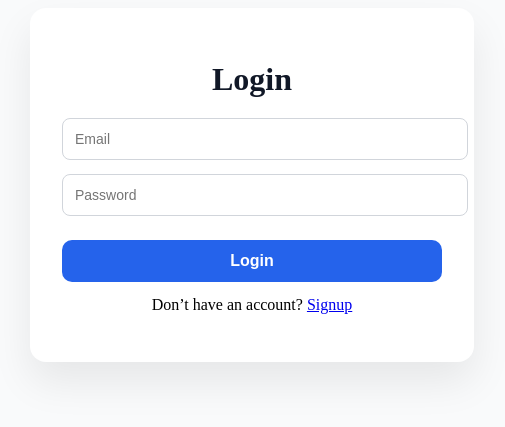
Test: Login Component › shows API error message on login failure
In the field with placeholder "Email": (265, 139) x1=62 y1=118 x2=468 y2=160, type "test@example.com"
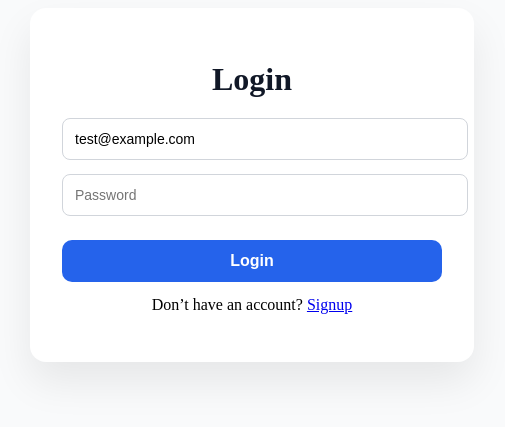
In the password field with placeholder "Password": (265, 195) x1=62 y1=174 x2=468 y2=216, type "wrongpass"
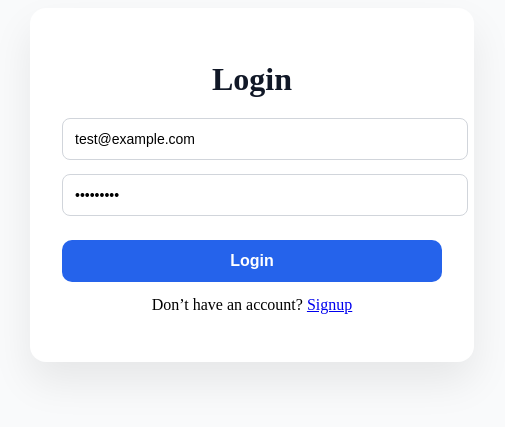
Click the button "Login": (252, 261) x1=62 y1=240 x2=442 y2=282
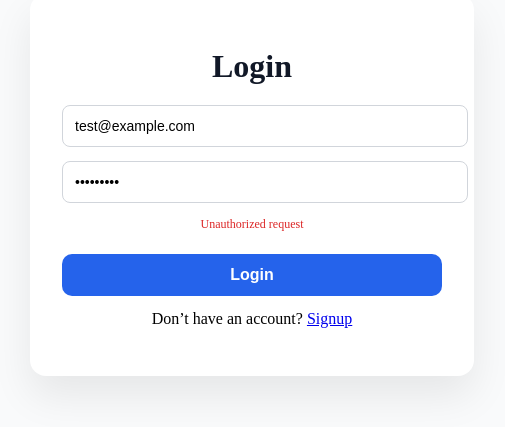
Check: the text "Unauthorized request" is shown, box x1=200 y1=217 x2=304 y2=231
